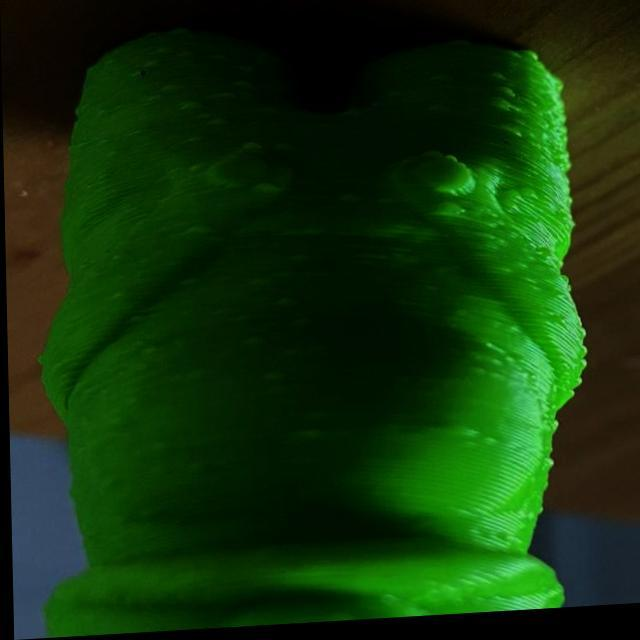zits: (245, 182, 282, 202), (258, 369, 288, 390), (336, 108, 368, 125), (334, 193, 362, 210), (290, 316, 316, 333), (487, 100, 511, 118), (242, 277, 266, 294), (240, 140, 262, 158), (177, 97, 200, 114), (240, 336, 265, 351), (428, 104, 449, 121), (211, 90, 236, 104), (271, 299, 294, 313), (206, 116, 227, 130), (186, 224, 206, 238), (288, 254, 308, 268), (419, 152, 444, 163), (140, 58, 161, 71), (189, 162, 210, 175), (489, 74, 506, 90), (256, 106, 275, 120), (177, 279, 197, 292), (496, 90, 514, 104), (431, 77, 452, 89), (276, 142, 294, 156), (155, 44, 176, 56), (237, 78, 254, 92), (210, 54, 231, 65), (237, 65, 253, 76)
